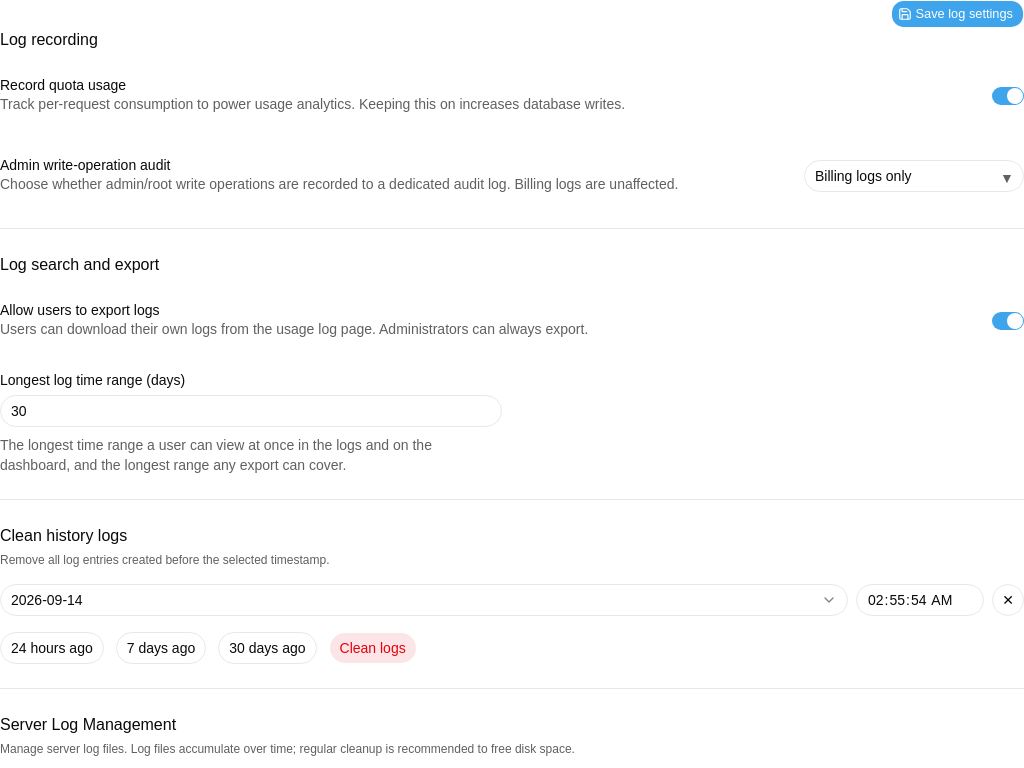
it: confirming a history cleanup starts the task and shows its progress in that module
Click the button "Clean logs". click: (373, 648)
box: [328,632,417,664]
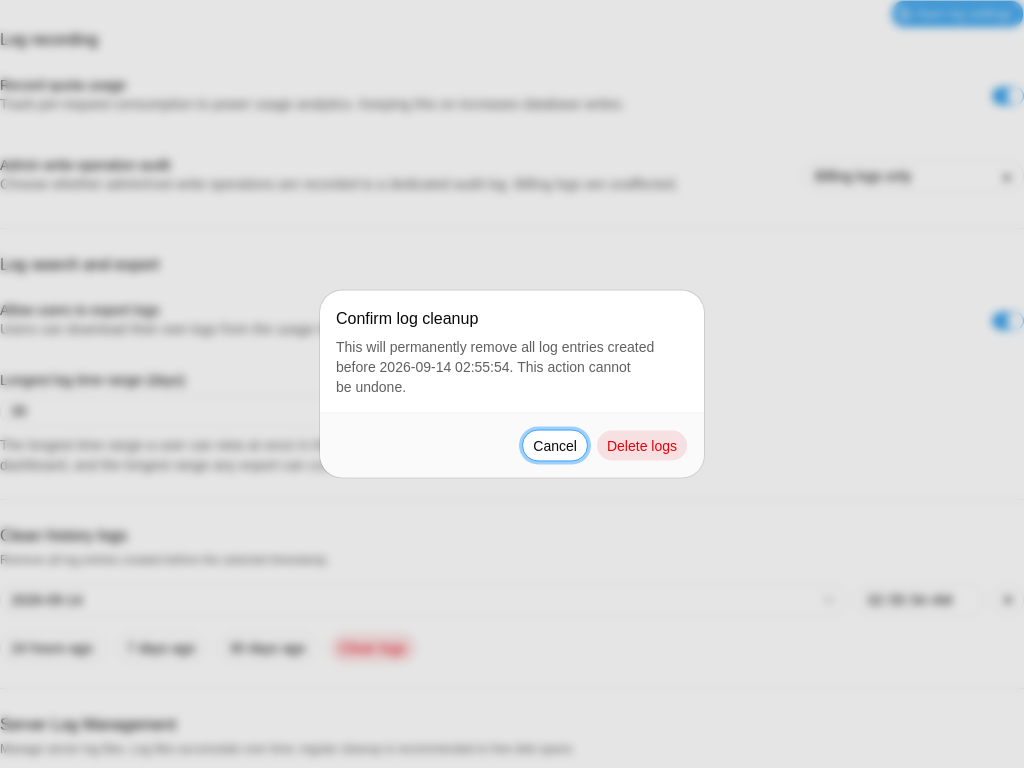
Click the button "Delete logs". click: (642, 446)
box: [596,430,688,462]
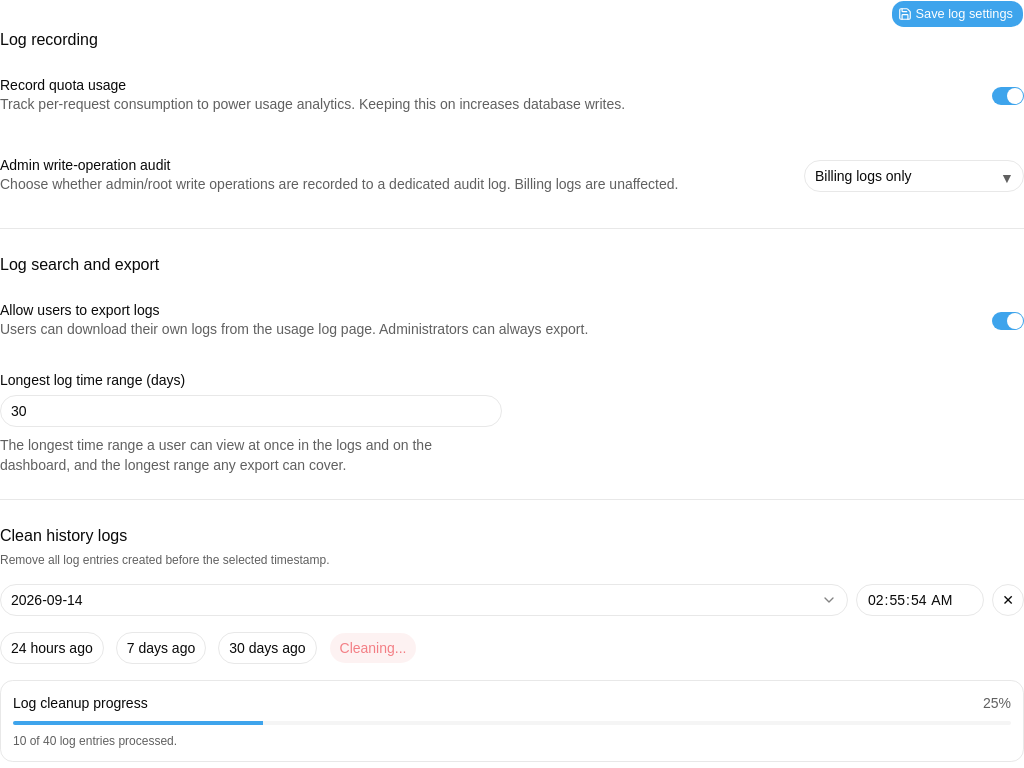
Expected: the text "10 of 40 log entries processed." is shown, [13,734,177,748]
Expected: the button "Cleaning..." is disabled, [328,632,417,664]
